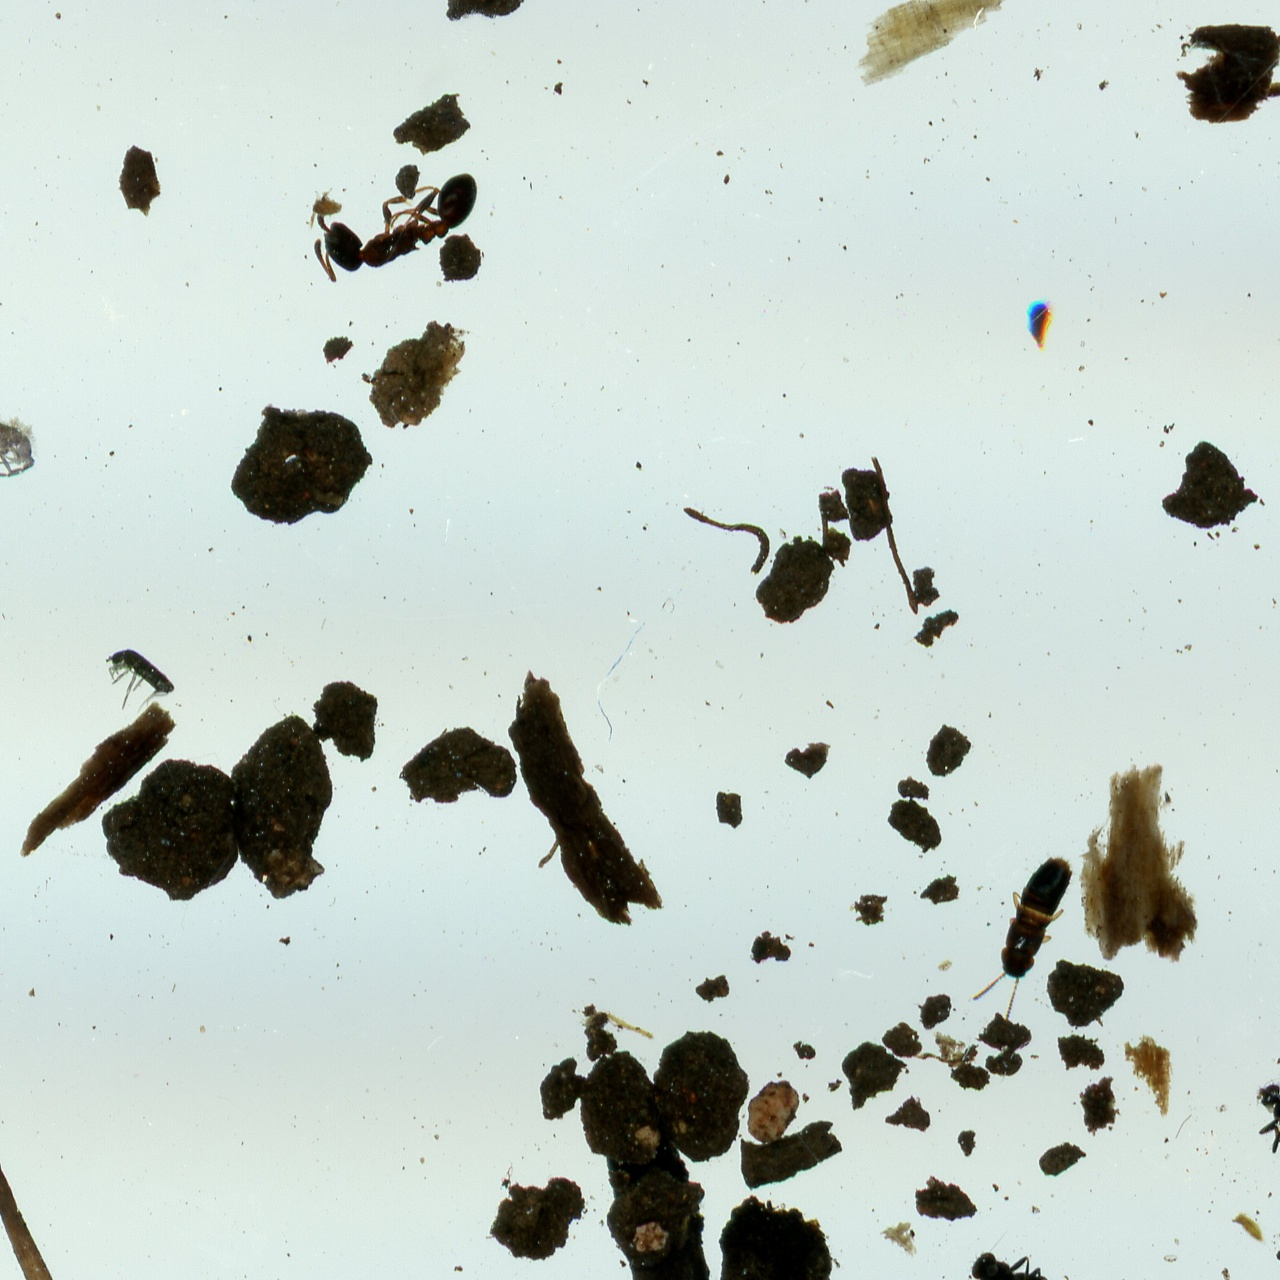arthropod: (294, 142, 497, 291), (958, 833, 1095, 1024), (949, 1211, 1088, 1280), (95, 644, 177, 719), (0, 374, 42, 483), (1251, 1077, 1280, 1212)
